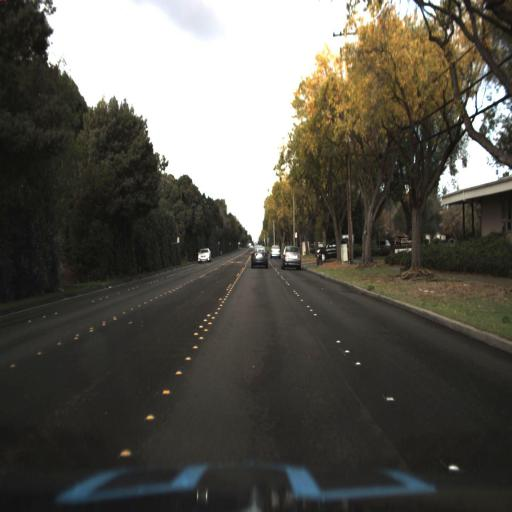car: (312, 234, 349, 263), (277, 239, 305, 273), (245, 240, 272, 270), (196, 244, 214, 268), (194, 246, 212, 266), (271, 240, 283, 259)
